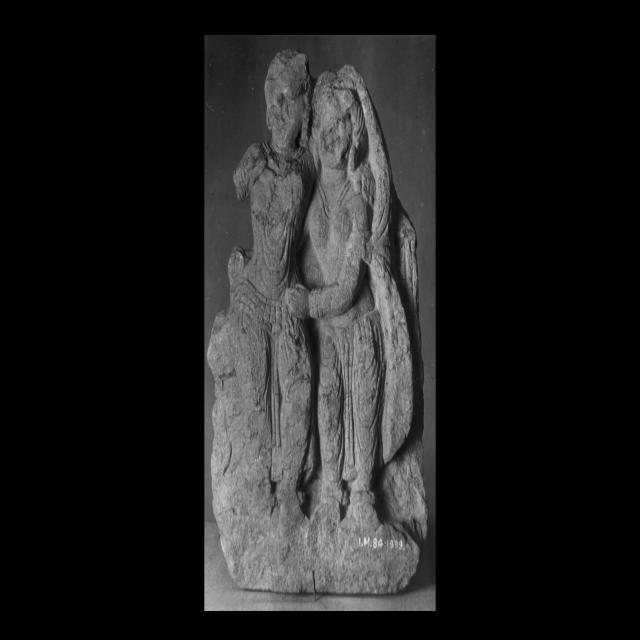buddha-standing: (216, 49, 316, 520)
